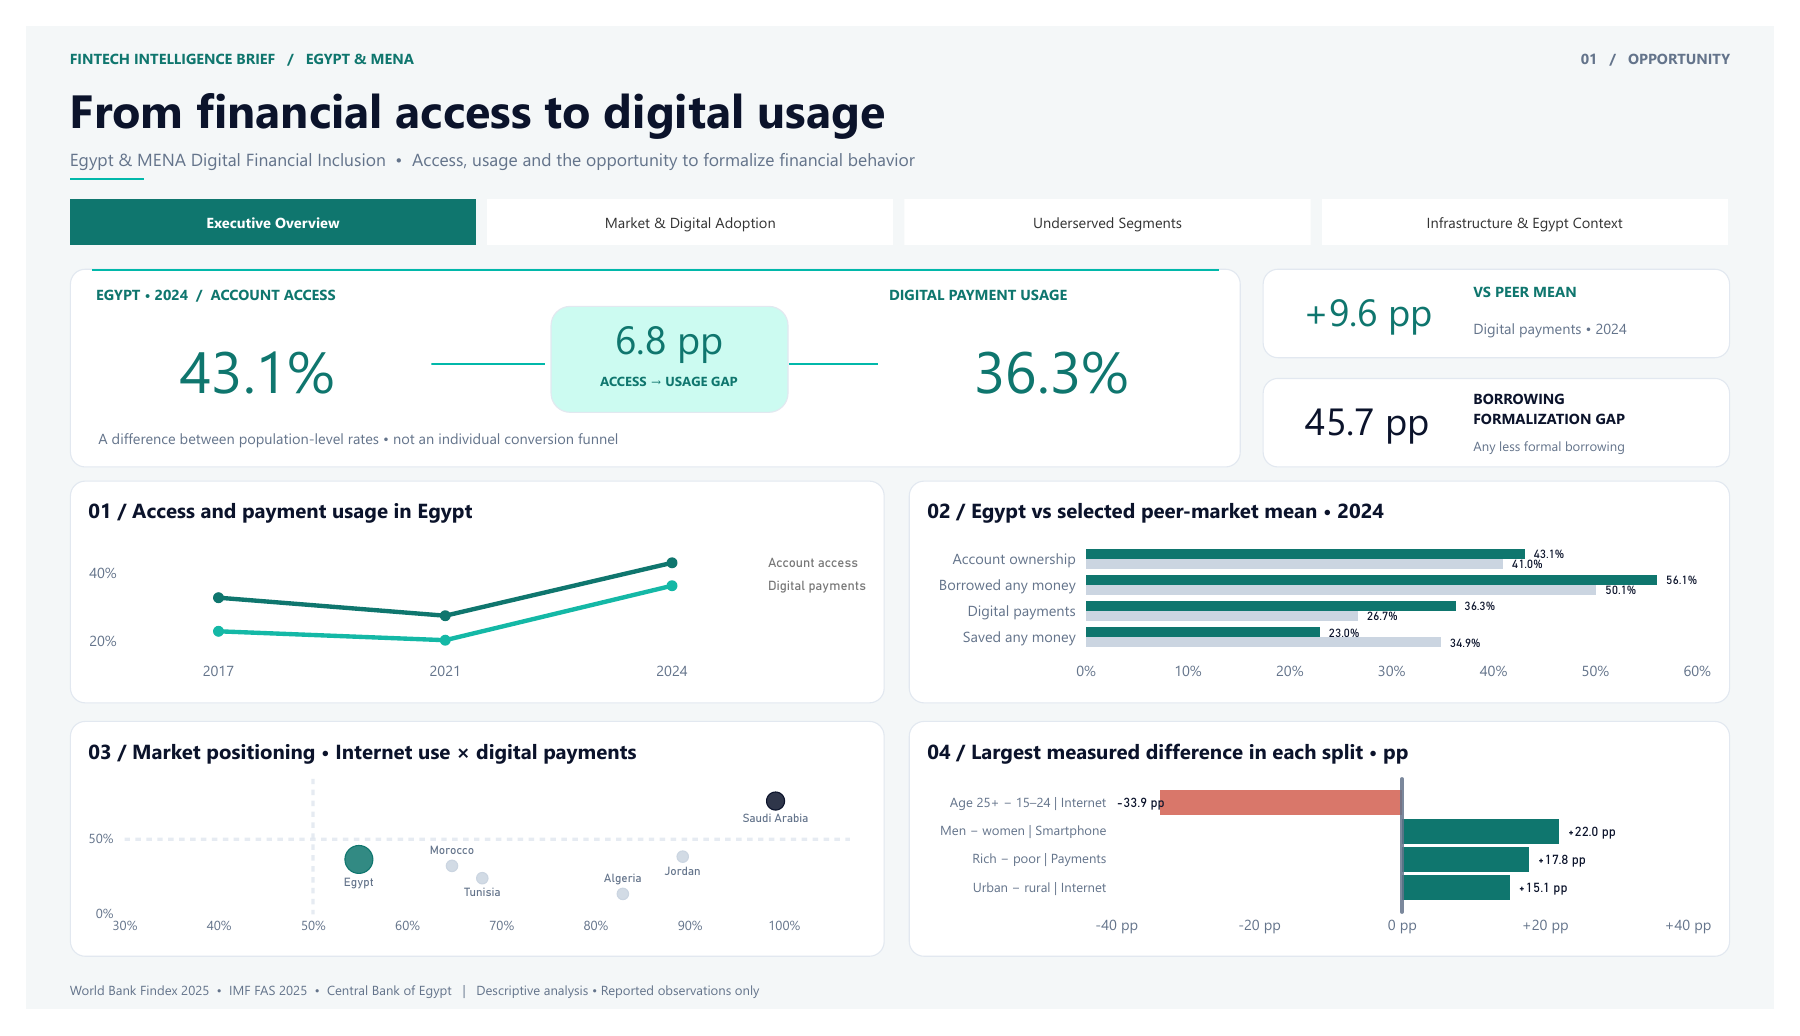

This screenshot's page, from the dashboard's own definition file:
{"tool":"powerbi","page":{"name":"Executive Overview","canvas":[1600,900],"ordinal":0},"visuals":[{"type":"textbox","box":[40,20,970,26],"z":1},{"type":"textbox","box":[1260,20,300,26],"z":2},{"type":"textbox","box":[40,48,1500,60],"z":3},{"type":"textbox","box":[40,111,1500,30],"z":4},{"type":"shape","box":[40,139,68,2],"z":5},{"type":"pageNavigator","box":[40,158,1520,42],"z":6},{"type":"textbox","box":[40,872,1450,24],"z":7},{"type":"textbox","box":[40,222,1072,182],"z":8},{"type":"shape","box":[60,222,1032,2],"z":9},{"type":"textbox","box":[64,236,310,25],"z":10},{"type":"card","fields":{"Values":["KPI Measures.Account Ownership 2024"]},"box":[62,270,300,88],"z":11},{"type":"textbox","box":[790,236,300,25],"z":12},{"type":"card","fields":{"Values":["KPI Measures.Digital Payment Usage 2024"]},"box":[790,270,298,88],"z":13},{"type":"shape","box":[371,308,104,2],"z":14},{"type":"shape","box":[698,308,82,2],"z":15},{"type":"textbox","box":[480,256,218,98],"z":16},{"type":"card","fields":{"Values":["KPI Measures.Access to Digital Usage Gap"]},"box":[487,262,204,50],"z":17},{"type":"textbox","box":[486,315,205,29],"z":18},{"type":"textbox","box":[66,368,1018,26],"z":19},{"type":"textbox","box":[1132,222,428,82],"z":20},{"type":"card","fields":{"Values":["KPI Measures.Digital Payments vs Peers"]},"box":[1144,226,169,71],"z":21},{"type":"textbox","box":[1325,233,219,29],"z":22},{"type":"textbox","box":[1325,267,219,25],"z":23},{"type":"textbox","box":[1132,322,428,82],"z":24},{"type":"card","fields":{"Values":["KPI Measures.Borrowing Formalization Gap"]},"box":[1144,326,169,71],"z":25},{"type":"textbox","box":[1325,331,219,40],"z":26},{"type":"textbox","box":[1325,374,219,24],"z":27},{"type":"lineChart","title":"01  /  Access and payment usage in Egypt","fields":{"Category":["Findex Market Trends.year"],"Y":["KPI Measures.Egypt Account Trend","KPI Measures.Egypt Digital Trend"]},"box":[40,416,746,204],"z":28},{"type":"clusteredBarChart","title":"02  /  Egypt vs selected peer-market mean • 2024","fields":{"Category":["Egypt Peer Comparison.Indicator"],"Y":["KPI Measures.Egypt Rate","KPI Measures.Peer Mean"]},"box":[808,416,752,204],"z":29},{"type":"scatterChart","title":"03 / Market positioning • Internet use × digital payments","fields":{"Category":["Digital Readiness.country"],"Series":["Digital Readiness.country"],"Size":["KPI Measures.Positioning Marker Size"],"X":["KPI Measures.Internet Use"],"Y":["KPI Measures.Digital Payment Usage"]},"box":[40,636,746,216],"z":30},{"type":"clusteredBarChart","title":"04  /  Largest measured difference in each split • pp","fields":{"Category":["Demographic Gaps.Comparison & indicator"],"Y":["KPI Measures.Demographic Difference"]},"box":[808,636,752,216],"z":31}]}

Visuals, with their boxes in screenshot pixels (x1, y1, x2, y2), scaled from the page's 1600x900 canvas onto the 1800x1036 screenshot:
textbox: <box>45,23,1136,53</box>
textbox: <box>1418,23,1755,53</box>
textbox: <box>45,55,1732,124</box>
textbox: <box>45,128,1732,162</box>
shape: <box>45,160,122,162</box>
pageNavigator: <box>45,182,1755,230</box>
textbox: <box>45,1004,1676,1031</box>
textbox: <box>45,256,1251,465</box>
shape: <box>68,256,1228,258</box>
textbox: <box>72,272,421,300</box>
card - KPI Measures.Account Ownership 2024: <box>70,311,407,412</box>
textbox: <box>889,272,1226,300</box>
card - KPI Measures.Digital Payment Usage 2024: <box>889,311,1224,412</box>
shape: <box>417,355,534,357</box>
shape: <box>785,355,878,357</box>
textbox: <box>540,295,785,407</box>
card - KPI Measures.Access to Digital Usage Gap: <box>548,302,777,359</box>
textbox: <box>547,363,777,396</box>
textbox: <box>74,424,1220,454</box>
textbox: <box>1274,256,1755,350</box>
card - KPI Measures.Digital Payments vs Peers: <box>1287,260,1477,342</box>
textbox: <box>1491,268,1737,302</box>
textbox: <box>1491,307,1737,336</box>
textbox: <box>1274,371,1755,465</box>
card - KPI Measures.Borrowing Formalization Gap: <box>1287,375,1477,457</box>
textbox: <box>1491,381,1737,427</box>
textbox: <box>1491,431,1737,458</box>
"01  /  Access and payment usage in Egypt" lineChart: <box>45,479,884,714</box>
"02  /  Egypt vs selected peer-market mean • 2024" clusteredBarChart: <box>909,479,1755,714</box>
"03 / Market positioning • Internet use × digital payments" scatterChart: <box>45,732,884,981</box>
"04  /  Largest measured difference in each split • pp" clusteredBarChart: <box>909,732,1755,981</box>
